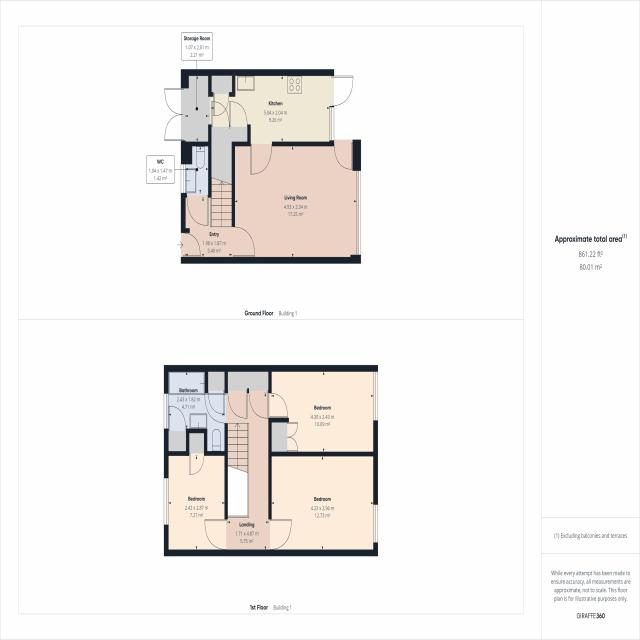DOOR: (249, 141, 273, 177), (329, 75, 354, 107), (204, 518, 228, 551), (232, 225, 256, 258), (268, 518, 292, 550), (333, 140, 353, 170), (268, 392, 288, 419), (181, 232, 201, 258)
DOUBLE DOOR: (164, 87, 186, 143), (287, 421, 298, 453)
ROOM: (232, 140, 361, 264), (268, 451, 378, 557), (268, 365, 378, 457), (164, 428, 228, 557)
WINDOW: (356, 170, 361, 256), (163, 477, 169, 526), (373, 371, 378, 421), (373, 504, 378, 543), (180, 163, 186, 194), (164, 393, 169, 429), (329, 107, 334, 141)
